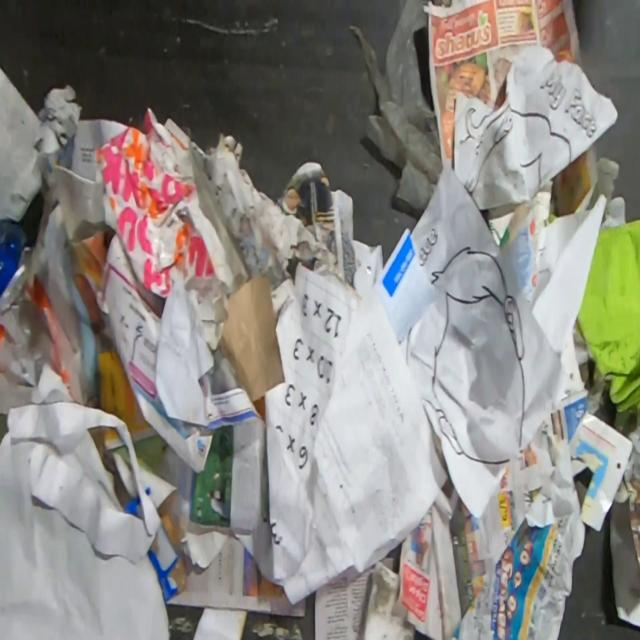cardboard: (576, 217, 639, 415)
metal: (0, 218, 29, 317)
soft_plastic: (349, 0, 443, 211), (0, 277, 82, 402)
